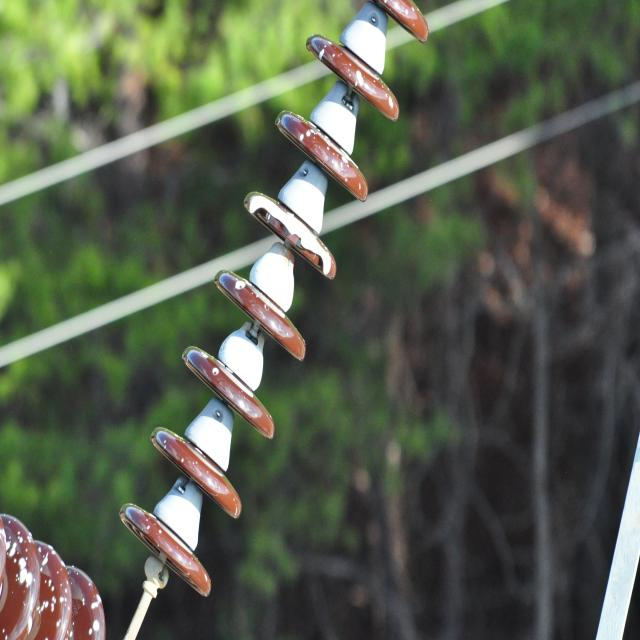broken: (246, 187, 332, 275)
insulator: (116, 0, 428, 598), (0, 515, 107, 639)
